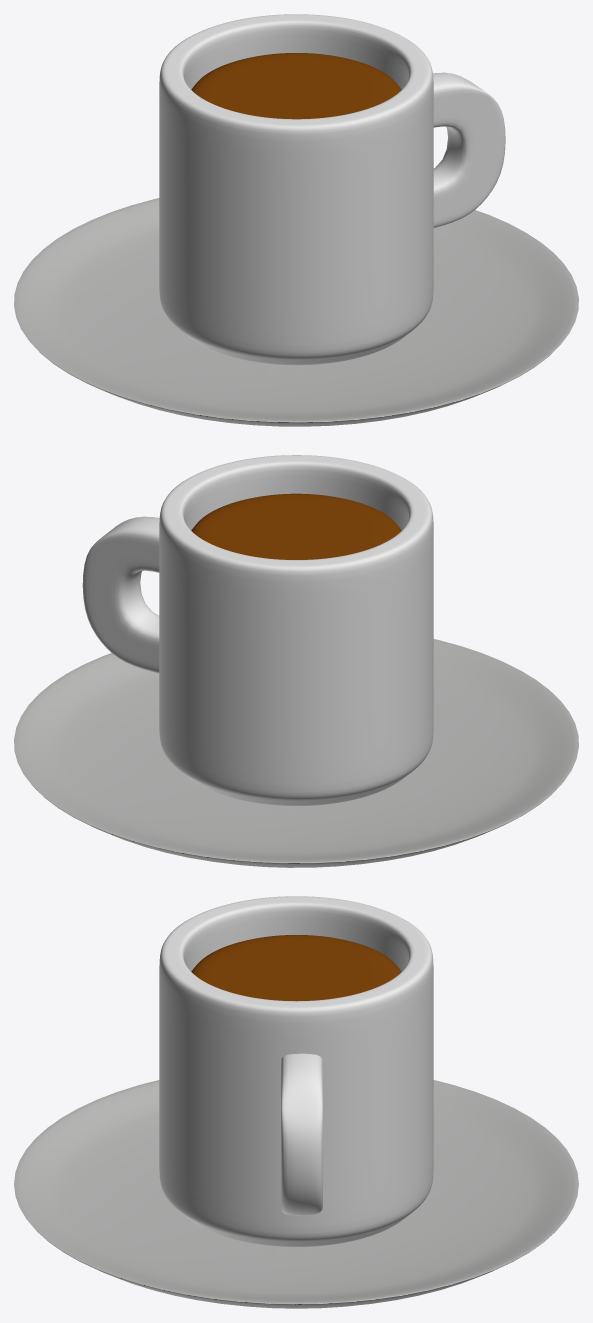
File: coffee.fbx
3 views of the same model, one above another, from view 1: azimuth 30°, elevation 25°; view 2: azimuth 150°, elevation 25°; view 3: azimuth 270°, elevation 25° (orthographic).
Parts seen in each view (by area): view 1: 柱体, 柱体.001, 柱体.002, 立方体; view 2: 柱体, 柱体.001, 柱体.002, 立方体; view 3: 柱体, 柱体.001, 柱体.002, 立方体.
Part boxes in pixels (x1,y1,x2,y2): 柱体: (159,14,433,365); 柱体.001: (14,198,578,426); 柱体.002: (191,53,401,119); 立方体: (433,72,505,227); 柱体: (159,455,433,806); 柱体.001: (14,639,578,867); 柱体.002: (191,493,401,559); 立方体: (82,516,159,673); 柱体: (159,896,433,1246); 柱体.001: (14,1080,578,1308); 柱体.002: (191,935,401,1001); 立方体: (281,1053,322,1215).
Size of the model in its own units: 409 by 210 by 409.
